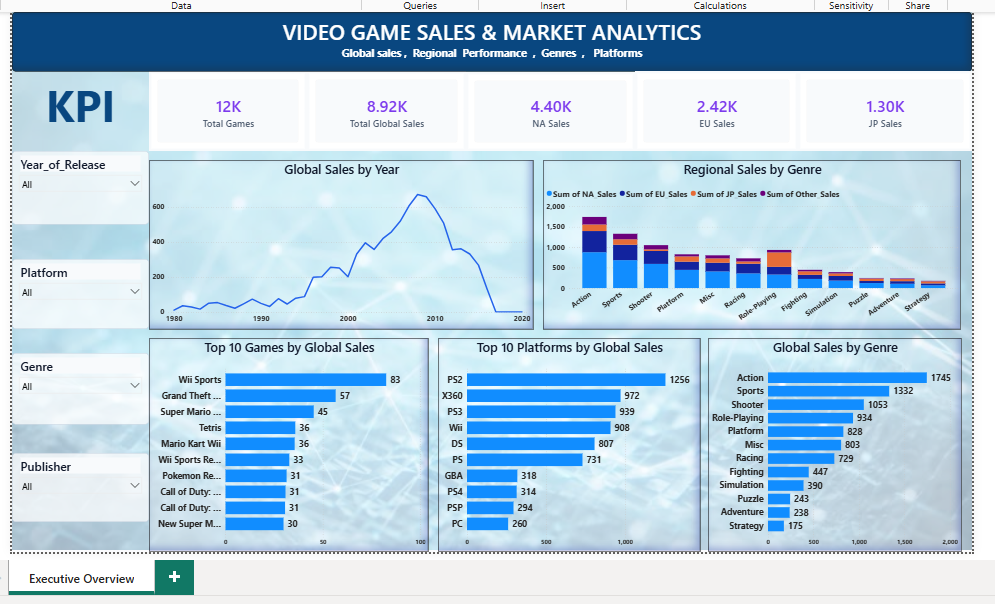

The dashboard page shown, as its layout file describes it:
{"tool":"powerbi","page":{"name":"Executive Overview","canvas":[1920,1080],"ordinal":0},"visuals":[{"type":"cardVisual","fields":{"Data":["Video_Games_Sales_as_at_22_Dec_2016.Total Global Sales"]},"box":[590,118,318,160],"z":0},{"type":"cardVisual","fields":{"Data":["Video_Games_Sales_as_at_22_Dec_2016.Total Games"]},"box":[274,118,316,160],"z":1000},{"type":"barChart","title":"Top 10 Platforms by Global Sales","fields":{"Category":["Video_Games_Sales_as_at_22_Dec_2016.Platform"],"Y":["Video_Games_Sales_as_at_22_Dec_2016.Total Global Sales"]},"box":[851,652.3,524.9,427.7],"z":2000},{"type":"textbox","box":[0,0,1920.2,118.8],"z":3000},{"type":"cardVisual","fields":{"Data":["Video_Games_Sales_as_at_22_Dec_2016.NA Sales"]},"box":[908,118,338,160],"z":4000},{"type":"cardVisual","fields":{"Data":["Video_Games_Sales_as_at_22_Dec_2016.EU Sales"]},"box":[1246,118,326,160],"z":5000},{"type":"cardVisual","fields":{"Data":["Video_Games_Sales_as_at_22_Dec_2016.JP Sales"]},"box":[1572,118,348,160],"z":6000},{"type":"lineChart","title":"Global Sales by Year","fields":{"Category":["Video_Games_Sales_as_at_22_Dec_2016.Year_of_Release"],"Y":["Video_Games_Sales_as_at_22_Dec_2016.Total Global Sales"]},"box":[274.3,295.9,769,339.1],"z":7000},{"type":"clusteredBarChart","title":"Global Sales by Genre","fields":{"Category":["Video_Games_Sales_as_at_22_Dec_2016.Genre"],"Y":["Video_Games_Sales_as_at_22_Dec_2016.Total Global Sales"]},"box":[1391,652.3,507.6,427.7],"z":8000},{"type":"barChart","title":"Top 10 Games by Global Sales ","fields":{"Category":["Video_Games_Sales_as_at_22_Dec_2016.Name"],"Y":["Video_Games_Sales_as_at_22_Dec_2016.Total Global Sales"]},"box":[274.3,652.3,559.4,427.7],"z":9000},{"type":"columnChart","title":"Regional Sales by Genre","fields":{"Category":["Video_Games_Sales_as_at_22_Dec_2016.Genre"],"Y":["Sum(Video_Games_Sales_as_at_22_Dec_2016.NA_Sales)","Sum(Video_Games_Sales_as_at_22_Dec_2016.EU_Sales)","Sum(Video_Games_Sales_as_at_22_Dec_2016.JP_Sales)","Sum(Video_Games_Sales_as_at_22_Dec_2016.Other_Sales)"]},"box":[1062.7,295.9,835.9,339.1],"z":10000},{"type":"slicer","fields":{"Values":["Video_Games_Sales_as_at_22_Dec_2016.Year_of_Release"]},"box":[0,278.6,274.3,146.9],"z":11000},{"type":"slicer","fields":{"Values":["Video_Games_Sales_as_at_22_Dec_2016.Platform"]},"box":[0,494.6,274.3,140.4],"z":12000},{"type":"slicer","fields":{"Values":["Video_Games_Sales_as_at_22_Dec_2016.Publisher"]},"box":[0,881.3,274.3,138.2],"z":13000},{"type":"slicer","fields":{"Values":["Video_Games_Sales_as_at_22_Dec_2016.Genre"]},"box":[0,682.6,274.3,142.6],"z":14000},{"type":"textbox","box":[0,119,274,159],"z":14001}]}

Visuals, with their boxes in screenshot pixels (x1, y1, x2, y2):
cardVisual - Video_Games_Sales_as_at_22_Dec_2016.Total Global Sales: BBox(307, 68, 469, 150)
cardVisual - Video_Games_Sales_as_at_22_Dec_2016.Total Games: BBox(145, 68, 307, 150)
"Top 10 Platforms by Global Sales" barChart: BBox(440, 341, 708, 560)
textbox: BBox(5, 8, 987, 68)
cardVisual - Video_Games_Sales_as_at_22_Dec_2016.NA Sales: BBox(469, 68, 642, 150)
cardVisual - Video_Games_Sales_as_at_22_Dec_2016.EU Sales: BBox(642, 68, 809, 150)
cardVisual - Video_Games_Sales_as_at_22_Dec_2016.JP Sales: BBox(809, 68, 986, 150)
"Global Sales by Year" lineChart: BBox(145, 159, 538, 332)
"Global Sales by Genre" clusteredBarChart: BBox(716, 341, 975, 560)
"Top 10 Games by Global Sales " barChart: BBox(145, 341, 431, 560)
"Regional Sales by Genre" columnChart: BBox(548, 159, 975, 332)
slicer - Video_Games_Sales_as_at_22_Dec_2016.Year_of_Release: BBox(5, 150, 145, 225)
slicer - Video_Games_Sales_as_at_22_Dec_2016.Platform: BBox(5, 261, 145, 332)
slicer - Video_Games_Sales_as_at_22_Dec_2016.Publisher: BBox(5, 458, 145, 529)
slicer - Video_Games_Sales_as_at_22_Dec_2016.Genre: BBox(5, 357, 145, 430)
textbox: BBox(5, 69, 145, 150)
